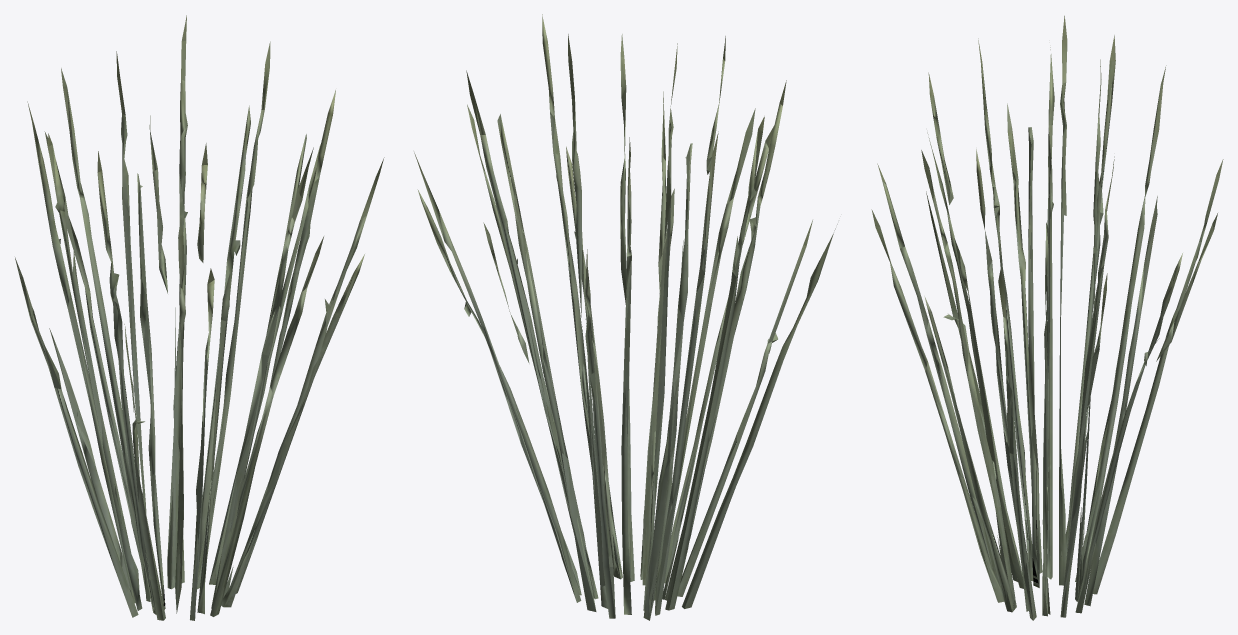
Rendered from 06_Bamboo_Clump.fbx.
The picture shows the model from 3 angles, left to right: view 1: azimuth 30°, elevation 25°; view 2: azimuth 150°, elevation 25°; view 3: azimuth 270°, elevation 25°; orthographic projection. The views are drawn at different scales.
Parts seen in each view (by area): view 1: 06_Bamboo_Clump; view 2: 06_Bamboo_Clump; view 3: 06_Bamboo_Clump.
Boxes of the visible parts, bbox=[...] form: 06_Bamboo_Clump: bbox=[15, 15, 384, 620]; 06_Bamboo_Clump: bbox=[414, 14, 837, 620]; 06_Bamboo_Clump: bbox=[871, 15, 1223, 620].
Size of the model in its own units: 2.4 by 3.5 by 2.
